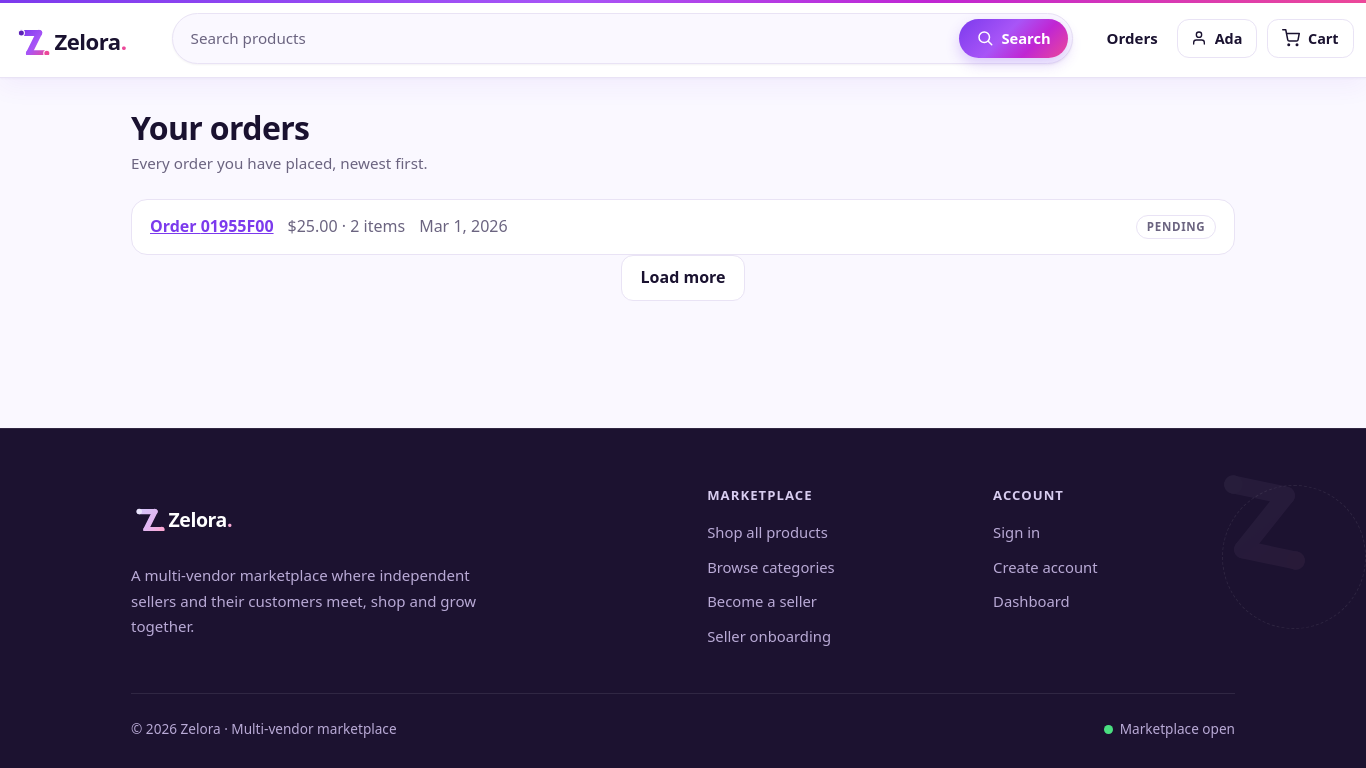
Test: OrdersPage › appends the next page behind the cursor the API returned
Click the button "Load more". click: (683, 278)
box: [621,254,745,301]
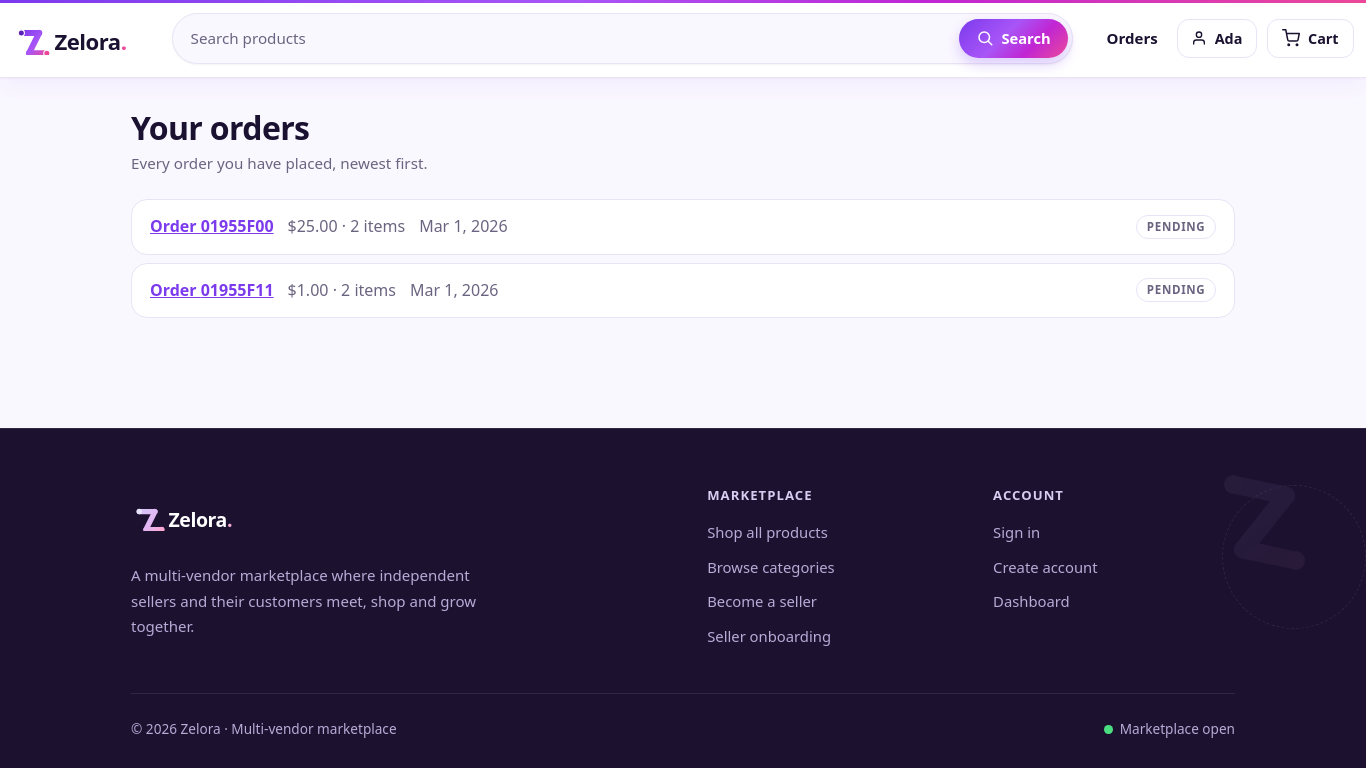
Expected: the link "Order 01955F00" is shown, [150,214,274,240]
Result: the button "Load more" is gone
